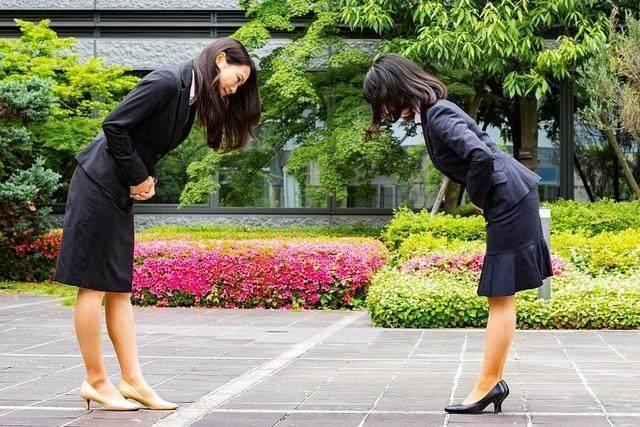bending: (49, 34, 255, 416), (342, 54, 559, 416)
